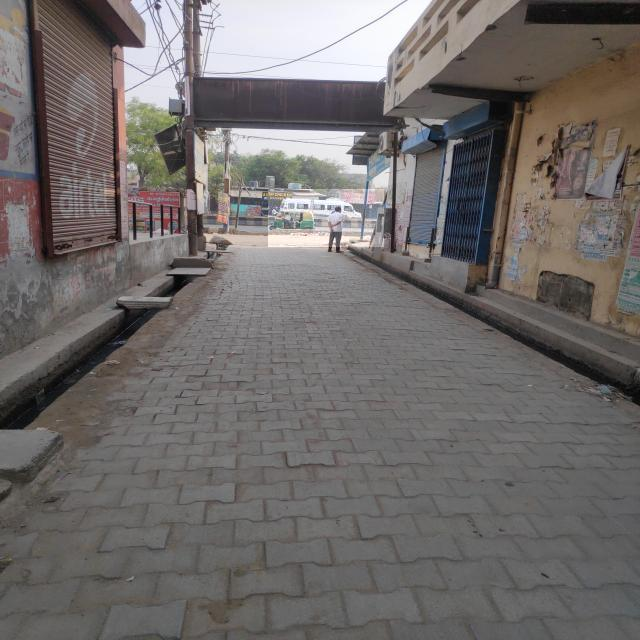Travller: (268, 190, 384, 248)
